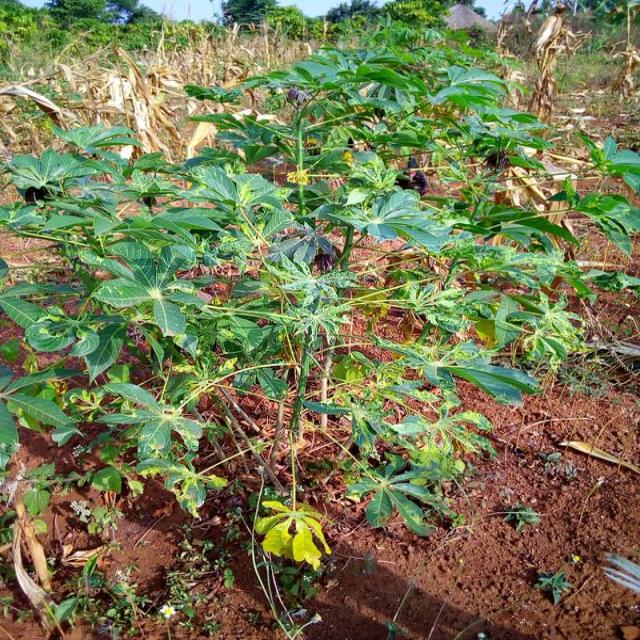cassava leaf: (255, 497, 331, 572)
